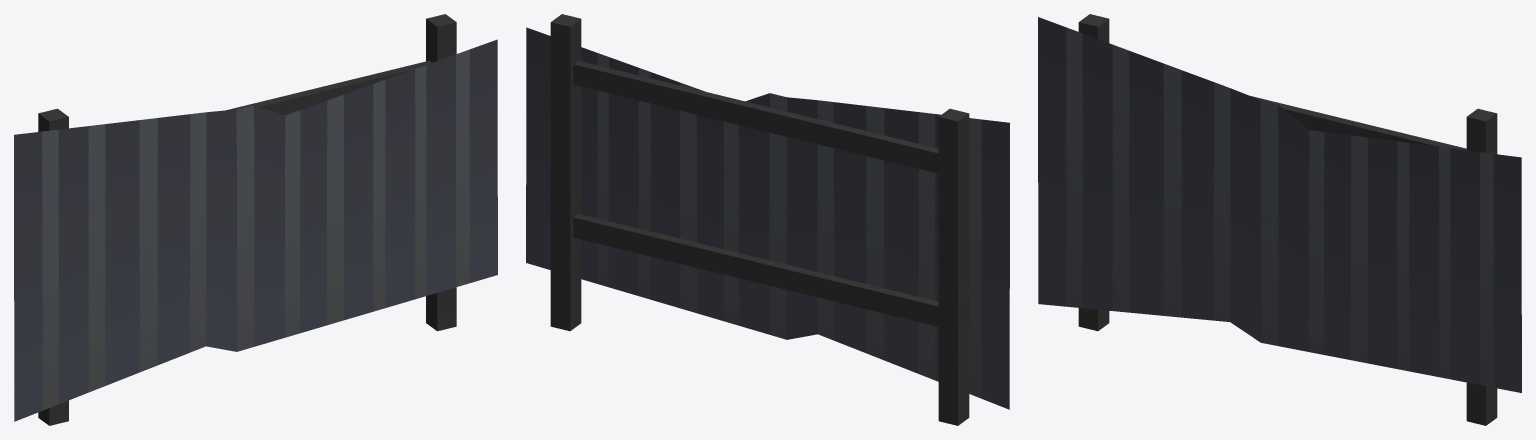
The model's file is SM_Fence_Metal_2.FBX.
3 views of the same model, side by side, from view 1: azimuth 30°, elevation 25°; view 2: azimuth 150°, elevation 25°; view 3: azimuth 330°, elevation 25° (orthographic).
Parts seen in each view (by area): view 1: SM_Fence_Metal_2; view 2: SM_Fence_Metal_2; view 3: SM_Fence_Metal_2.
Boxes of the visible parts, left/top/right/bottom form: SM_Fence_Metal_2: left=14, top=14, right=497, bottom=425; SM_Fence_Metal_2: left=526, top=14, right=1009, bottom=425; SM_Fence_Metal_2: left=1038, top=14, right=1521, bottom=425.
Size of what is drawn, in the model's own units: 499 by 24.71 by 300.
